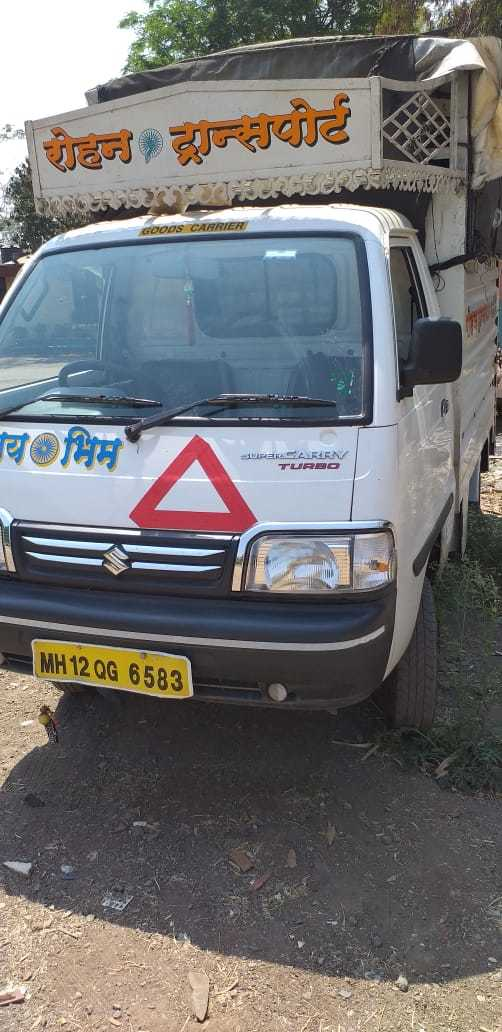numberplate: (27, 634, 196, 703)
